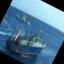fishing boat: (1, 14, 53, 64)
